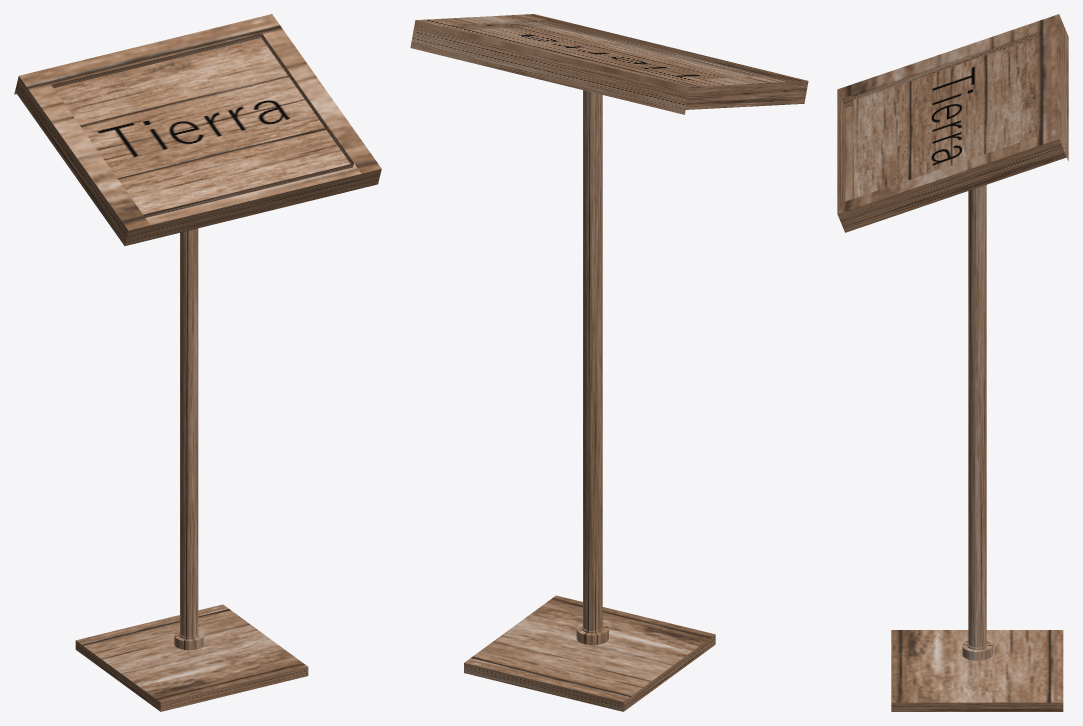
Rendered from letreroTierra.obj.
3 renders of one model, left to right at view 1: azimuth 30°, elevation 25°; view 2: azimuth 150°, elevation 25°; view 3: azimuth 270°, elevation 25°, orthographic. The views are drawn at different scales.
Parts seen in each view (by area): view 1: pCube2, pCube1, pCylinder3; view 2: pCube2, pCube1, pCylinder3; view 3: pCube2, pCube1, pCylinder3.
Boxes of the visible parts, x1,y1,x2,y2 form: pCube2: [14, 14, 381, 245]; pCube1: [75, 604, 308, 711]; pCylinder3: [174, 228, 203, 650]; pCube2: [410, 14, 808, 114]; pCube1: [464, 595, 715, 711]; pCylinder3: [576, 90, 608, 644]; pCube2: [837, 14, 1068, 232]; pCube1: [891, 630, 1063, 711]; pCylinder3: [962, 185, 992, 660].
Bounding box in the file's own units: 0.4023 × 0.8949 × 0.3143.
2 materials, 2 textured.
